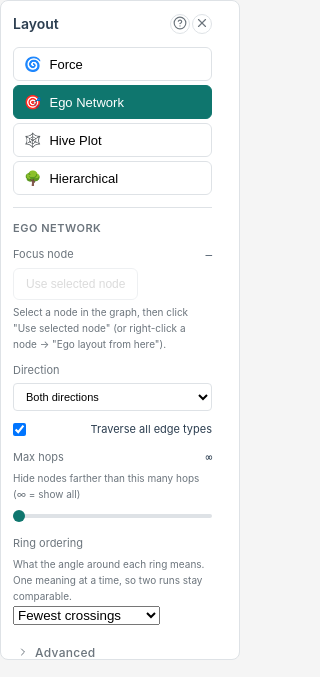
Scenario: LayoutPanel — crossing heuristic controls › warns that the default sweep heuristic is weak on hub-dominated graphs
Click the element with test id "ego-advanced-toggle": (56, 652) [17, 645, 96, 660]
(page scrolled)
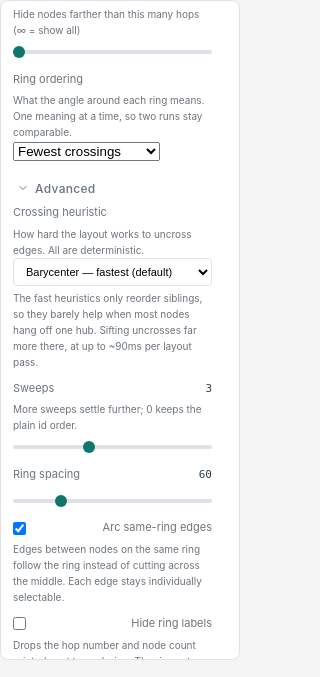
Check: the text with test id "ego-heuristic-weak-hint" is shown, box [13, 290, 212, 370]
